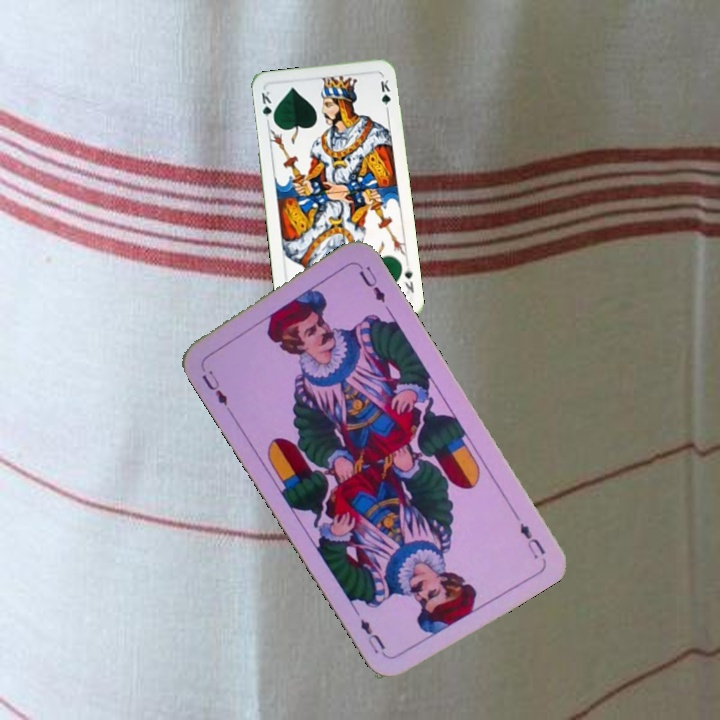EU: (196, 361, 231, 409), (515, 518, 548, 562)
GK: (257, 87, 277, 127), (399, 264, 416, 297)
